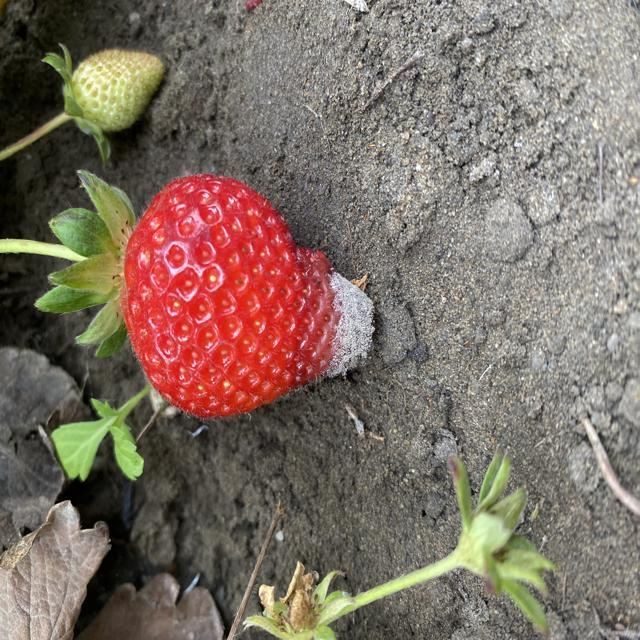Botrytis: (123, 170, 376, 421)
Saludable: (63, 41, 168, 137)
